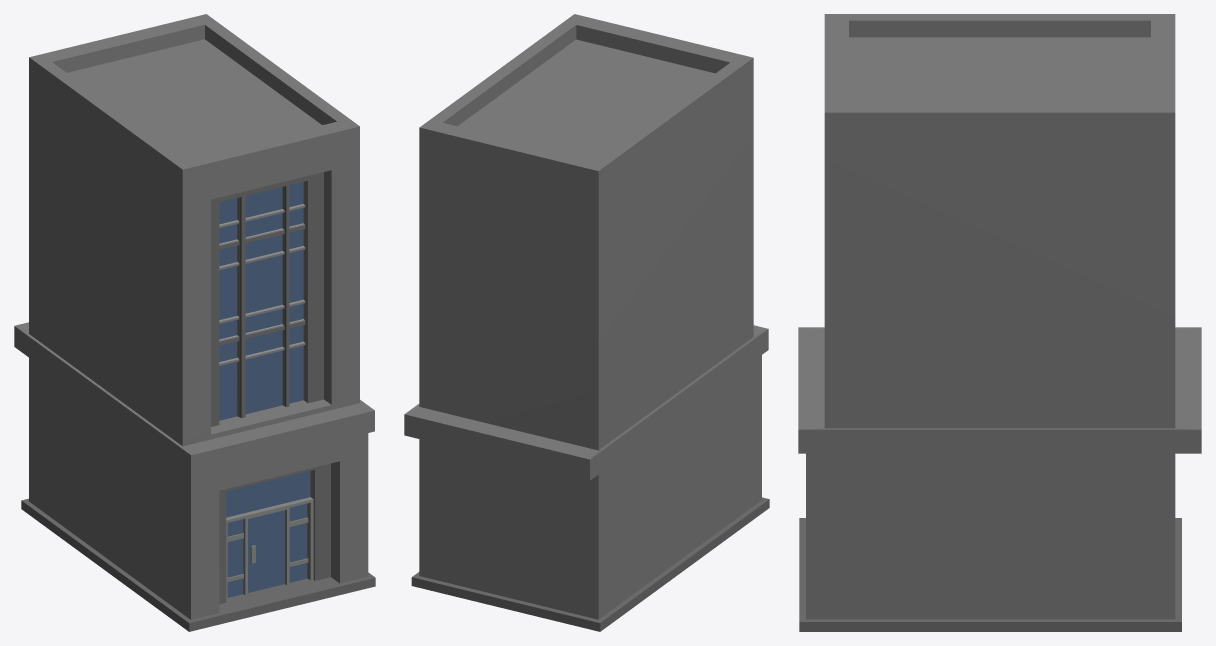
The model's file is SM_Gen_Bld_Background_02.obj.
3 views of the same model, side by side, from view 1: azimuth 30°, elevation 25°; view 2: azimuth 150°, elevation 25°; view 3: azimuth 270°, elevation 25° (orthographic). The views are drawn at different scales.
Visible parts, largest first — view 1: SM_Gen_Bld_Background_02_0, SM_Gen_Bld_Background_02_1; view 2: SM_Gen_Bld_Background_02_0; view 3: SM_Gen_Bld_Background_02_0.
Part boxes in pixels (<box>): SM_Gen_Bld_Background_02_0: <box>14,14,375,631</box>; SM_Gen_Bld_Background_02_1: <box>219,182,310,597</box>; SM_Gen_Bld_Background_02_0: <box>404,14,769,631</box>; SM_Gen_Bld_Background_02_0: <box>798,14,1201,631</box>.
Size of the model in its own units: 5.26 by 12.2 by 8.64.
Materials: 2 (1 with a texture image).
